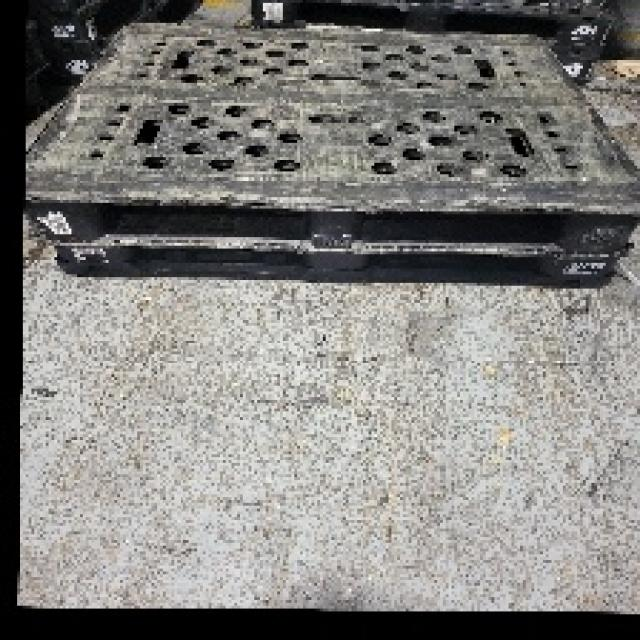igps: (20, 15, 640, 259), (51, 229, 622, 294)
